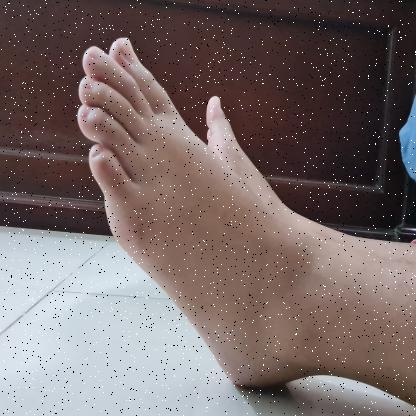leg: (73, 26, 416, 416), (200, 80, 330, 224)
